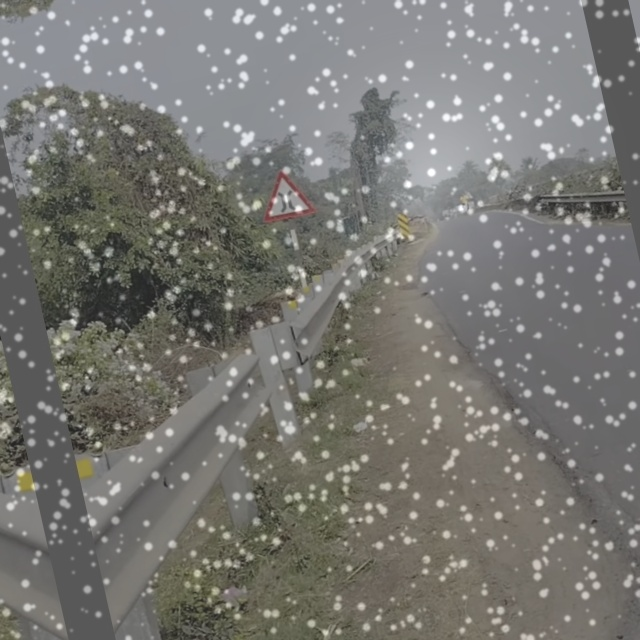Narrow_Bridge: (255, 164, 320, 227)
